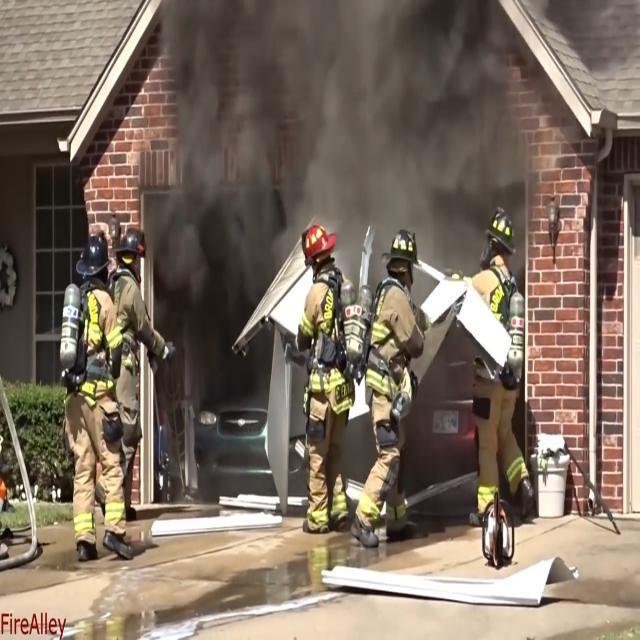Smoke: (169, 4, 500, 229)
